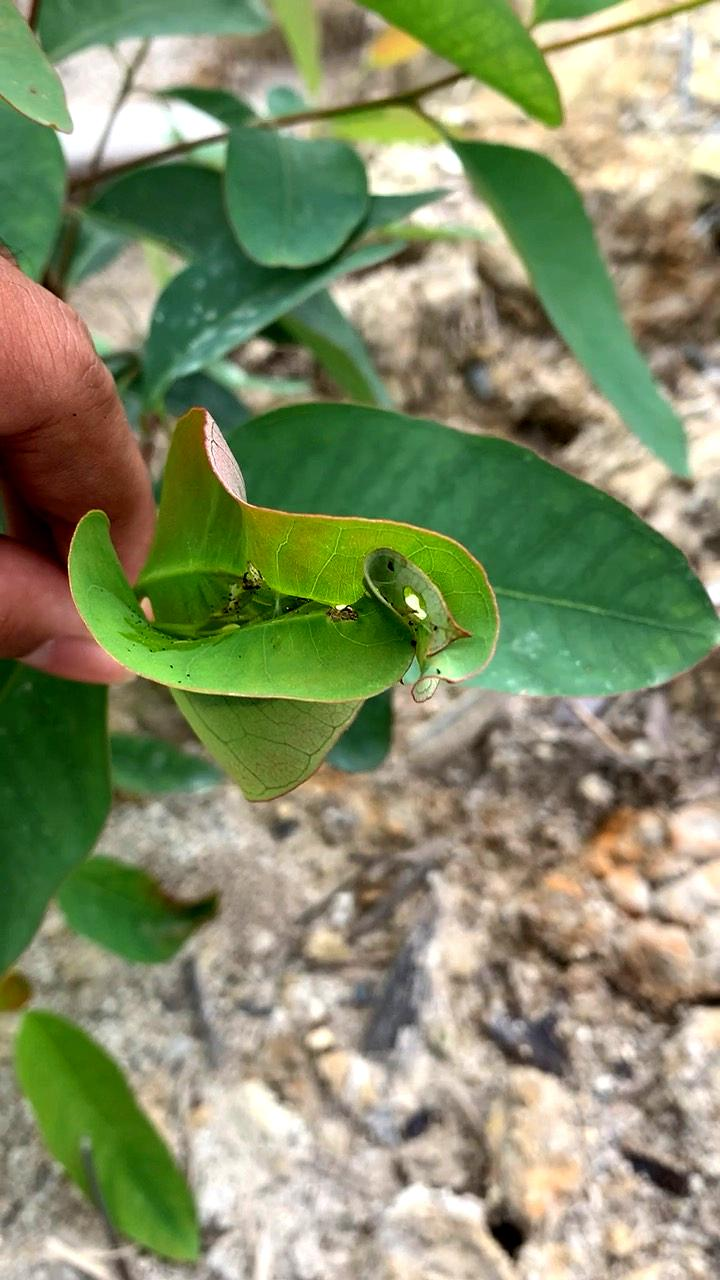Leaf Roller - Leaf: (53, 383, 528, 836)
